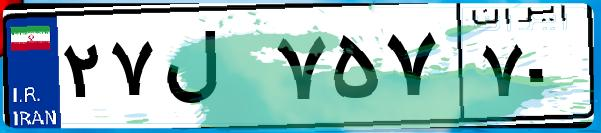0: (525, 38, 570, 115)
2: (57, 26, 110, 100)
5: (330, 28, 385, 110)
7: (270, 28, 330, 110), (385, 28, 445, 110), (475, 38, 525, 113), (110, 28, 158, 98)
ل: (158, 20, 270, 120)
